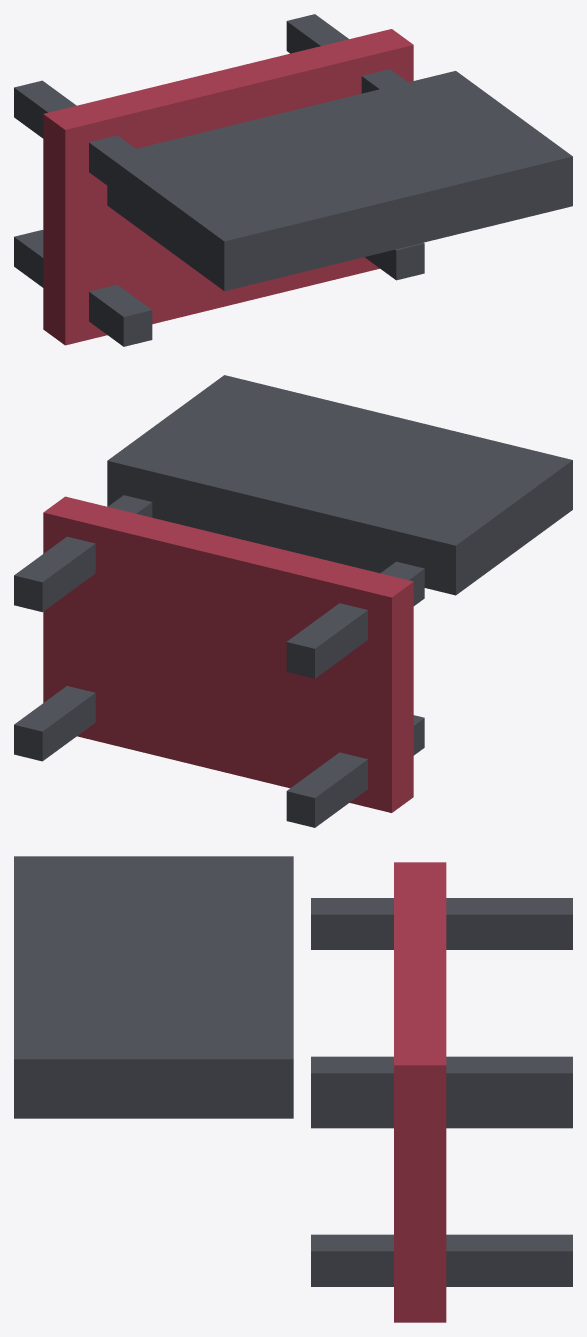
Rendered from chair_v01.glb.
3 renders of one model, top to bottom at view 1: azimuth 30°, elevation 25°; view 2: azimuth 150°, elevation 25°; view 3: azimuth 270°, elevation 25°, orthographic. The views are drawn at different scales.
Visible parts, largest first — view 1: box_5, box_0, box_1, box_2, box_4, box_3; view 2: box_0, box_5, box_2, box_4, box_1, box_3; view 3: box_5, box_0, box_3, box_4, box_2, box_1.
Part boxes in pixels (x1=…): box_5: x1=107, y1=71, x2=572, y2=290; box_0: x1=43, y1=29, x2=413, y2=345; box_1: x1=14, y1=230, x2=152, y2=346; box_2: x1=14, y1=80, x2=135, y2=185; box_4: x1=286, y1=14, x2=407, y2=93; box_3: x1=364, y1=242, x2=424, y2=280; box_0: x1=43, y1=496, x2=413, y2=812; box_5: x1=107, y1=375, x2=572, y2=595; box_2: x1=286, y1=561, x2=424, y2=678; box_4: x1=14, y1=495, x2=152, y2=612; box_1: x1=286, y1=715, x2=424, y2=827; box_3: x1=14, y1=686, x2=95, y2=761; box_5: x1=14, y1=856, x2=293, y2=1118; box_0: x1=394, y1=862, x2=446, y2=1322; box_3: x1=311, y1=1234, x2=572, y2=1286; box_4: x1=311, y1=1056, x2=572, y2=1108; box_2: x1=311, y1=898, x2=572, y2=949; box_1: x1=311, y1=1109, x2=572, y2=1128.
Size of the model in its own units: 1.1 by 0.665 by 1.28.
